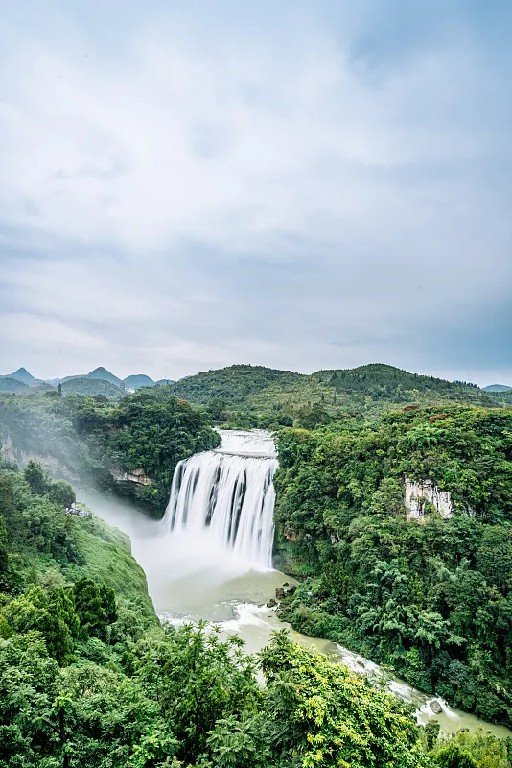Huangguoshu: (162, 429, 278, 566)
